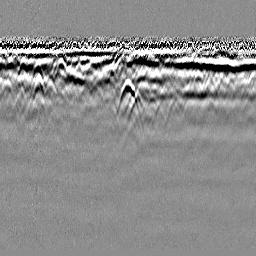cavity: (114, 78, 143, 131)
